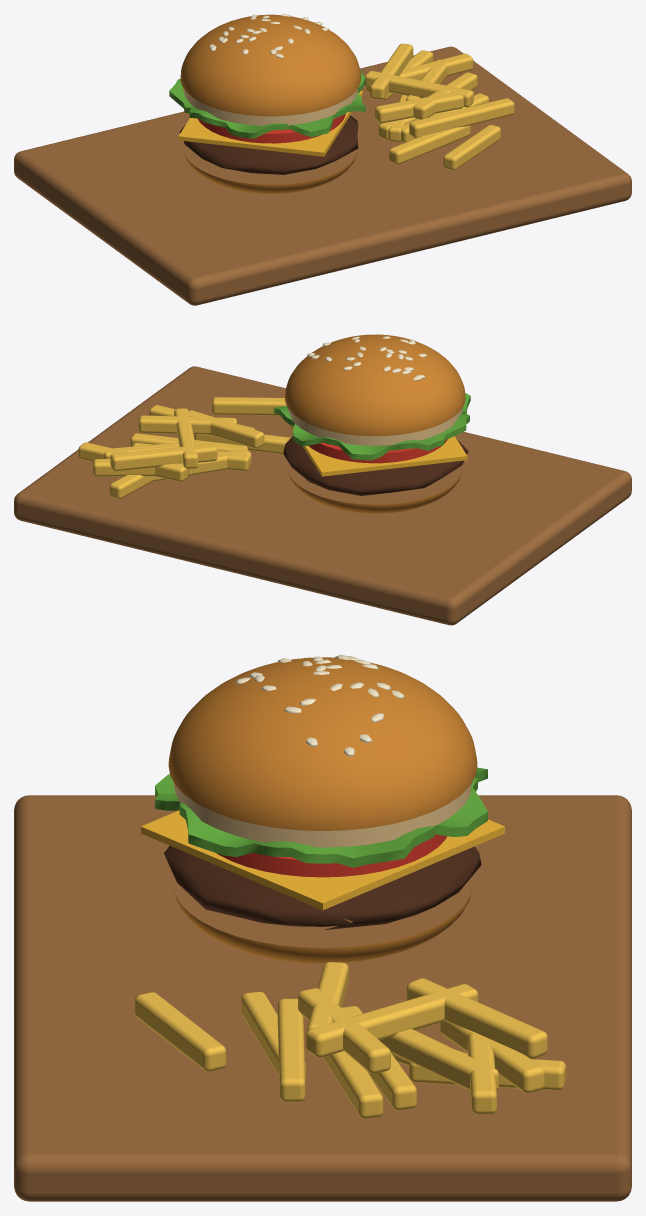
File: burger.glb
3 renders of one model, top to bottom at view 1: azimuth 30°, elevation 25°; view 2: azimuth 150°, elevation 25°; view 3: azimuth 270°, elevation 25°, orthographic. The views are drawn at different scales.
Visible parts, largest first — view 1: burger; view 2: burger; view 3: burger.
Part boxes in pixels (x1,y1,x2,y2): burger: (14,14,631,305); burger: (14,334,631,625); burger: (14,654,631,1201).
Size of the model in its own units: 0.34 by 0.1286 by 0.24.
